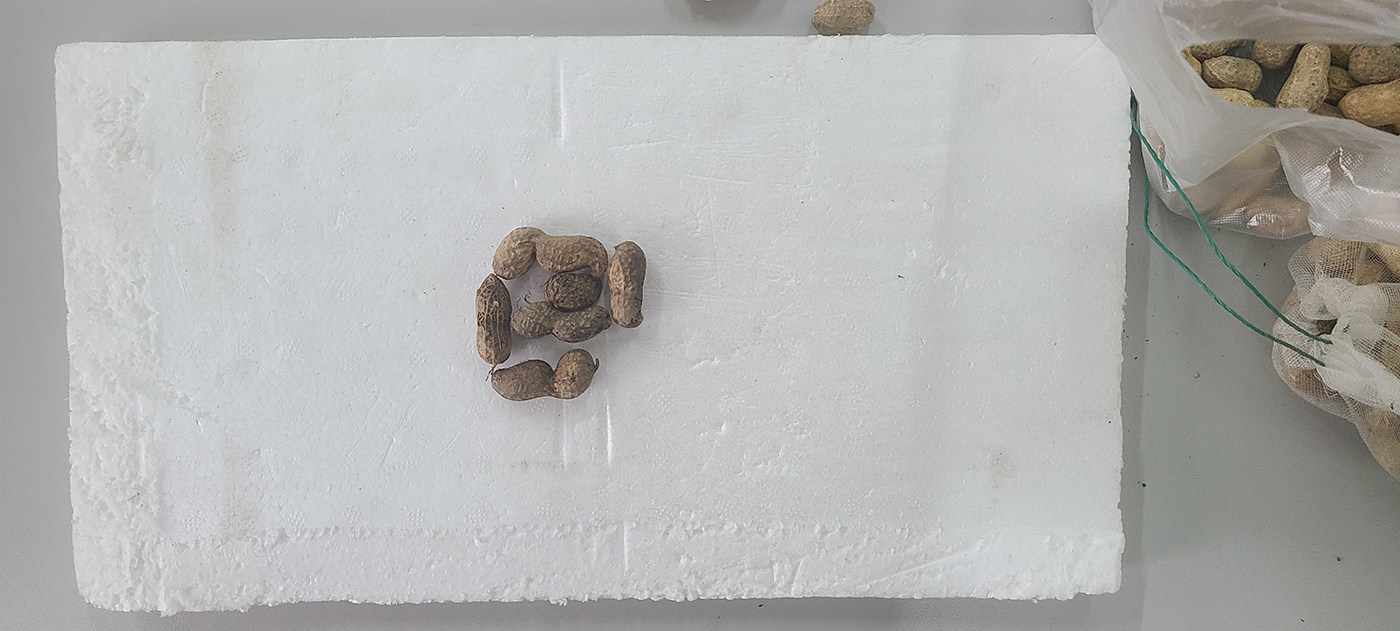l: (491, 226, 608, 279), (488, 349, 596, 402), (511, 303, 610, 342), (474, 274, 511, 365), (607, 242, 646, 327), (545, 271, 602, 309)
